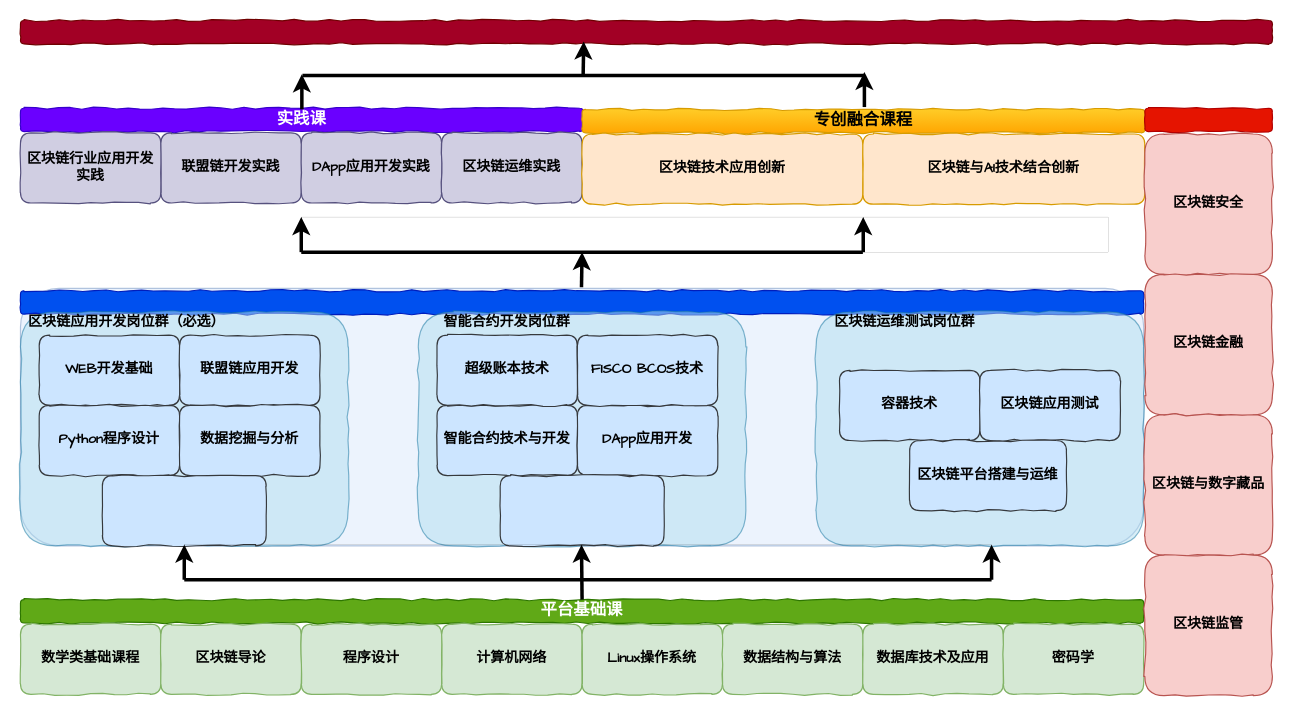
Some shapes in this 1293 by 716 pixel diagram are drawn without their labels. The centre of each missing label's shape, as x and y in pixels:
"Golang/Java程序设计" belongs at (x=183, y=510).
"专业选修课" belongs at (x=1208, y=119).
"分布式系统原理与应用" belongs at (x=581, y=510).
"岗位课（3选2）" belongs at (x=581, y=302).
"顶岗实习" belongs at (x=645, y=31).
